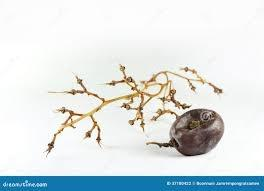Grape Rotten: (43, 63, 225, 157), (146, 107, 225, 156)
